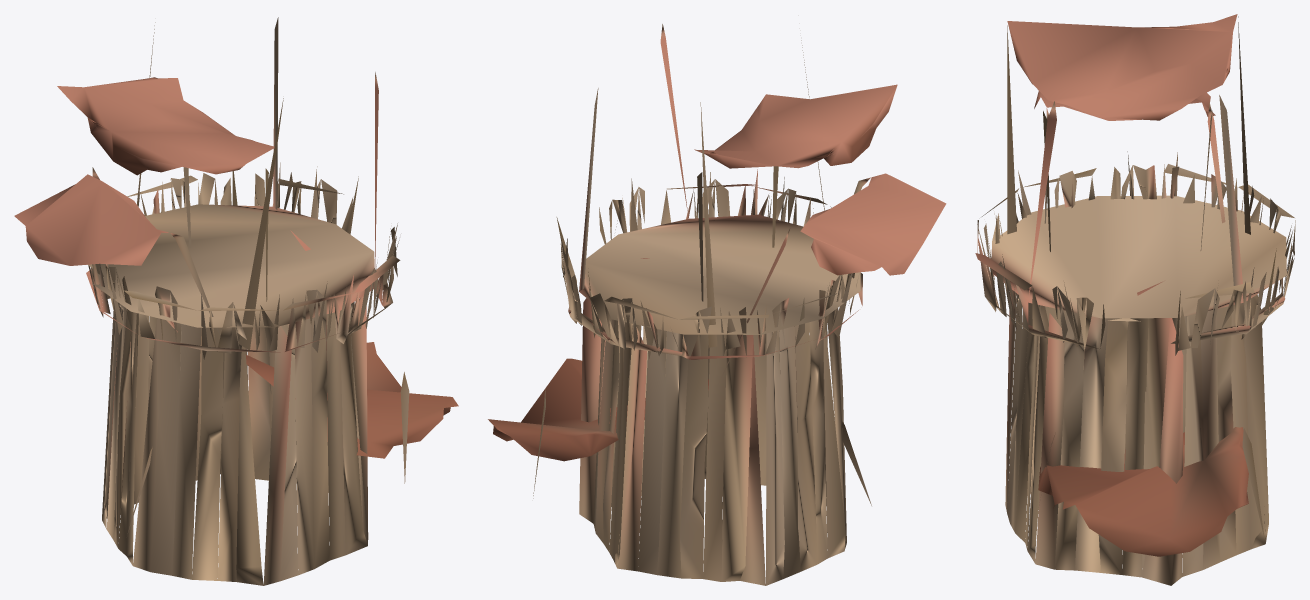
Rendered from torre_vigia_lejos.glb.
The picture shows the model from 3 angles, left to right: view 1: azimuth 30°, elevation 25°; view 2: azimuth 150°, elevation 25°; view 3: azimuth 270°, elevation 25°; orthographic projection. The views are drawn at different scales.
Parts seen in each view (by area): view 1: torre_vigia_lejos; view 2: torre_vigia_lejos; view 3: torre_vigia_lejos.
Part boxes in pixels (x1,y1,x2,y2): torre_vigia_lejos: (14, 17, 458, 585); torre_vigia_lejos: (488, 24, 946, 585); torre_vigia_lejos: (975, 14, 1295, 585).
Bounding box in the file's own units: 6.5 × 7.89 × 4.63.
